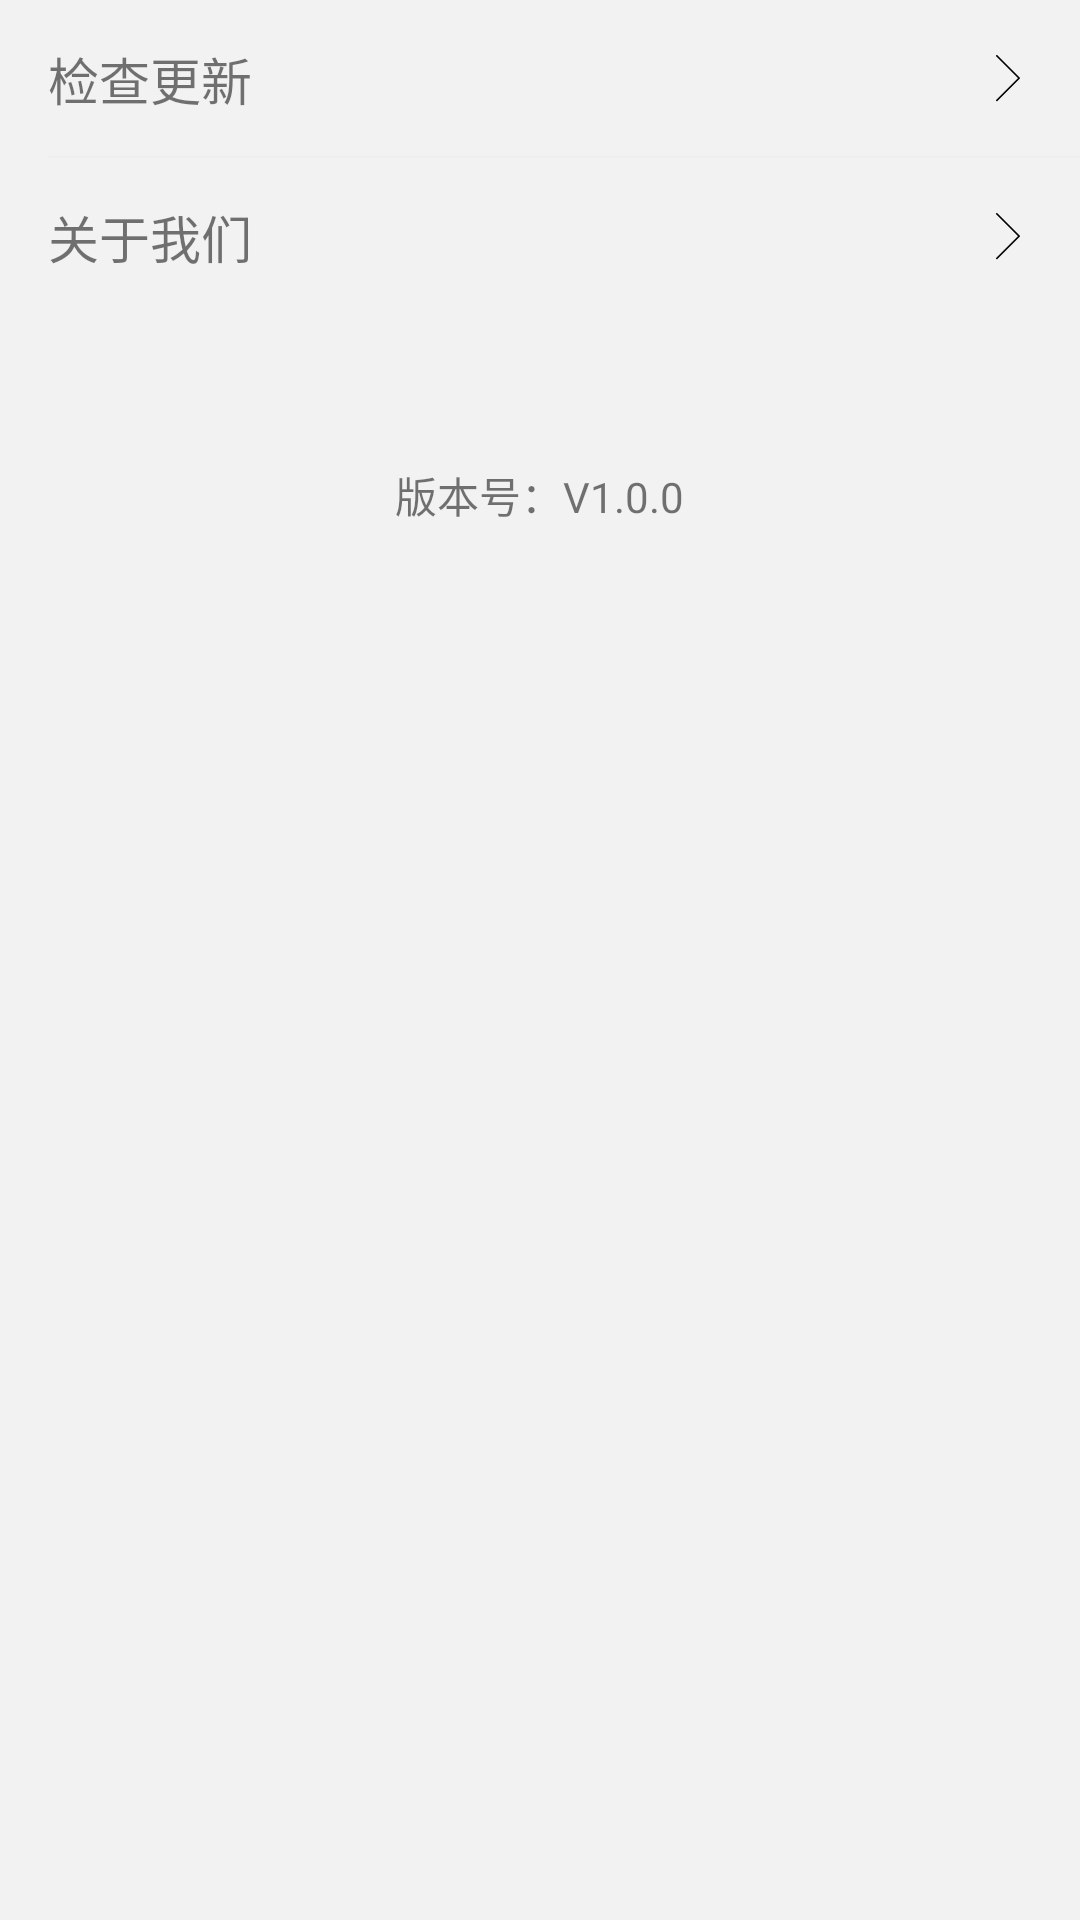

Icon bounding boxes for this 1080px×1920px phone screenshot, format (x1=x1, y1=y1, x2=x2, y2=y2):
right arrow: (x1=996, y1=55, x2=1020, y2=102), (x1=996, y1=213, x2=1020, y2=260)
